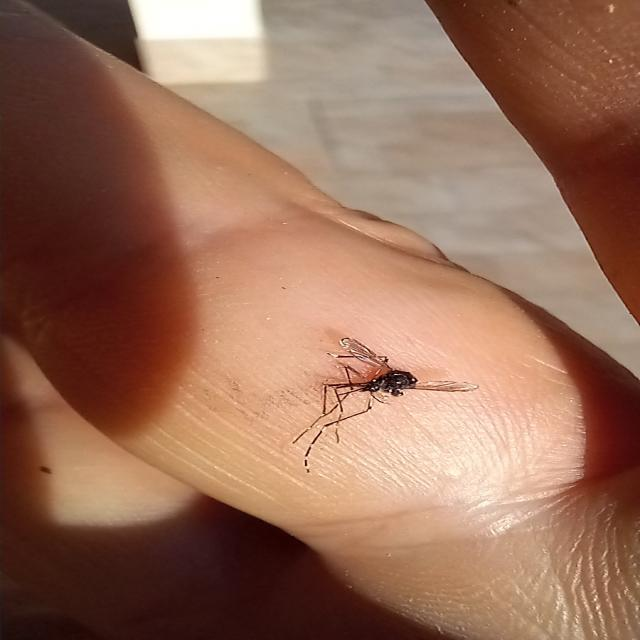albopictus: (288, 336, 474, 474)
